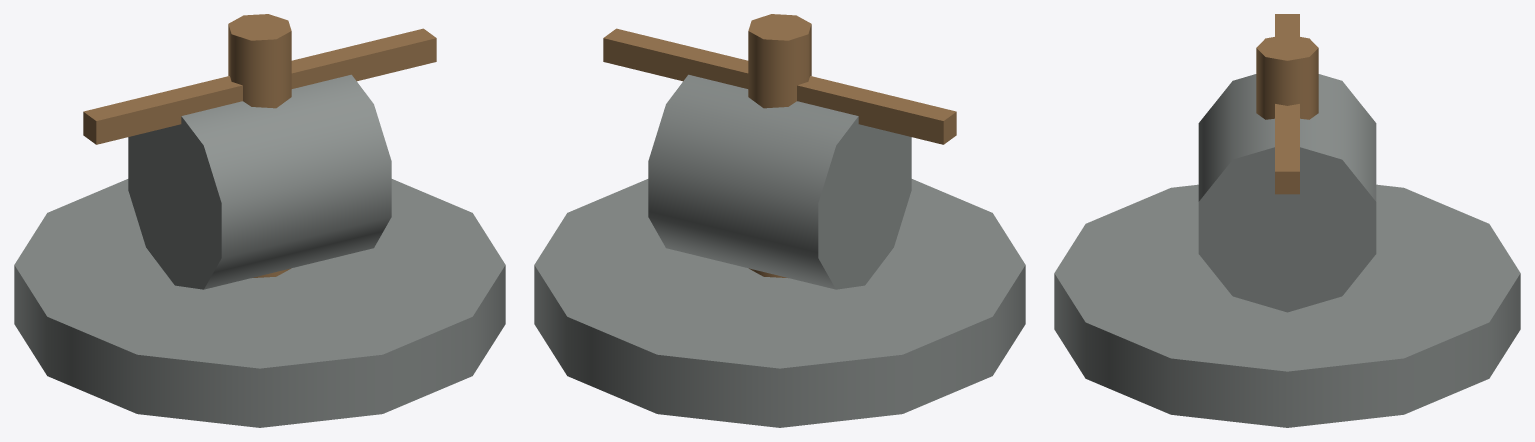
The picture shows the model from 3 angles, left to right: view 1: azimuth 30°, elevation 25°; view 2: azimuth 150°, elevation 25°; view 3: azimuth 270°, elevation 25°; orthographic projection. The views are drawn at different scales.
Parts seen in each view (by area): view 1: stone-mill-a@1.0.0; view 2: stone-mill-a@1.0.0; view 3: stone-mill-a@1.0.0.
Boxes of the visible parts, left/top/right/bottom form: stone-mill-a@1.0.0: left=14, top=14, right=505, bottom=427; stone-mill-a@1.0.0: left=534, top=14, right=1025, bottom=427; stone-mill-a@1.0.0: left=1054, top=14, right=1520, bottom=427.
Bounding box in the file's own units: 1.5 × 1 × 1.5.
